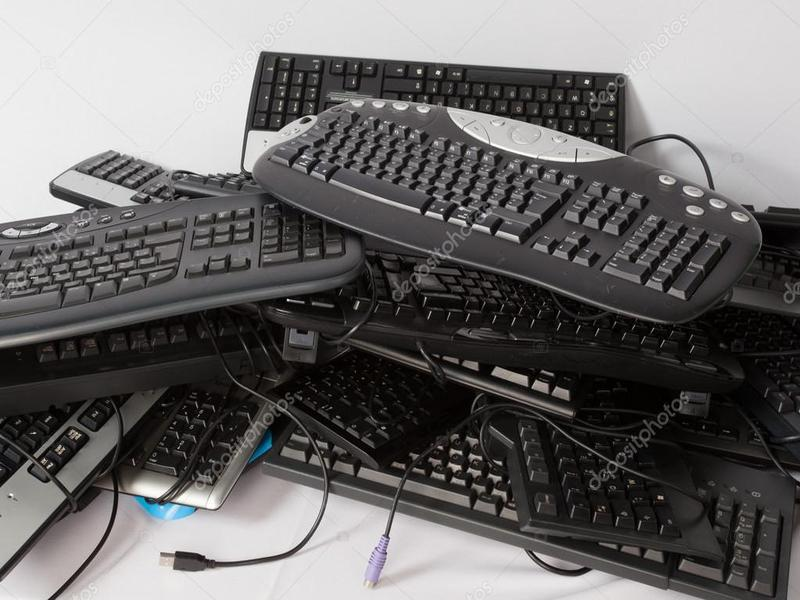keyboard: (248, 95, 766, 328), (1, 192, 364, 349), (238, 42, 633, 174), (491, 397, 743, 567), (254, 341, 467, 472)
